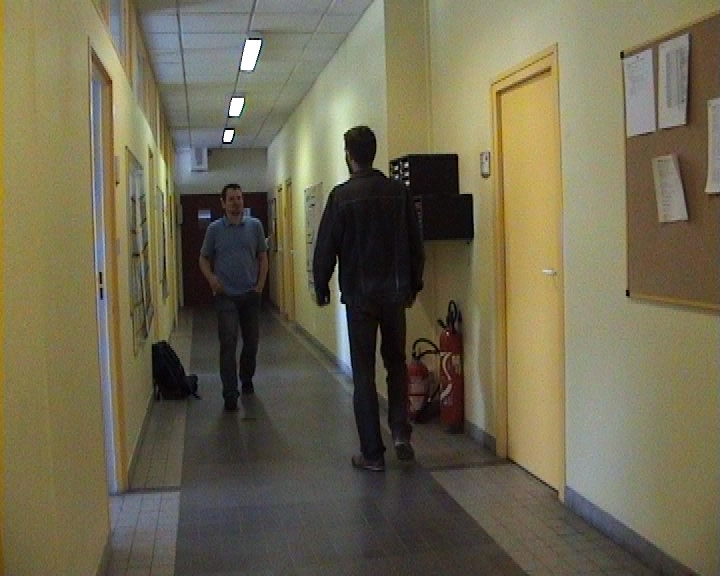leave bag unattended: (121, 285, 376, 436)
